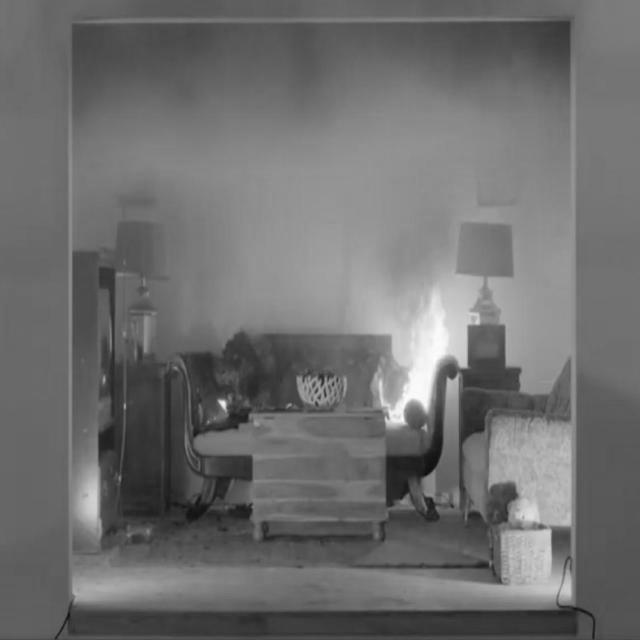fire: (74, 23, 568, 192)
smoke: (377, 286, 452, 430)
